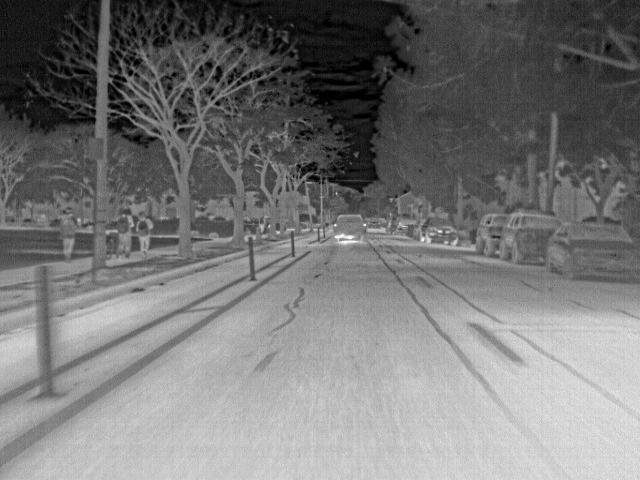car: (546, 220, 640, 282), (501, 209, 547, 265), (420, 216, 460, 246), (474, 212, 501, 256), (333, 213, 368, 241), (390, 217, 415, 236), (368, 214, 384, 228)
person: (59, 206, 78, 262), (117, 206, 136, 258), (138, 210, 154, 255)
